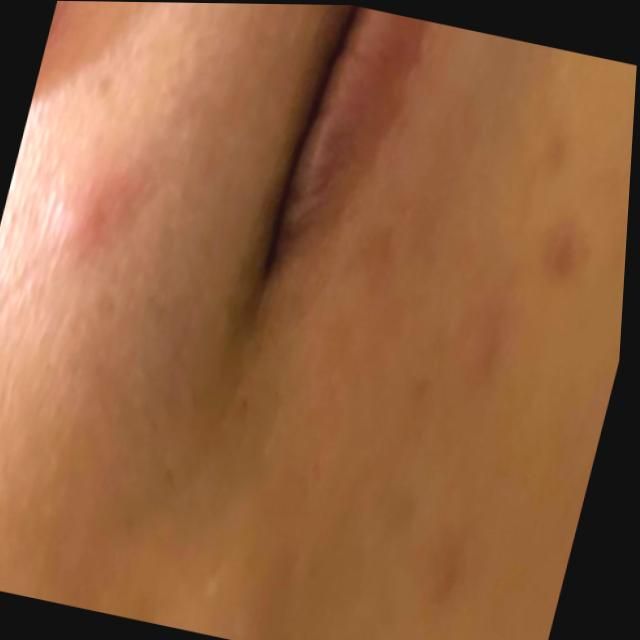papule: (88, 139, 149, 269)
